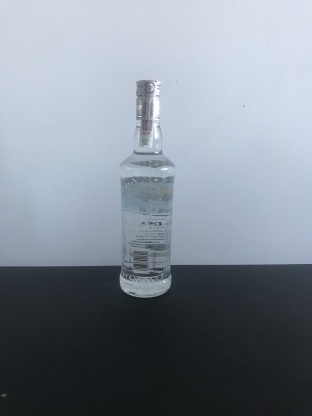nakretka: (133, 76, 163, 122)
